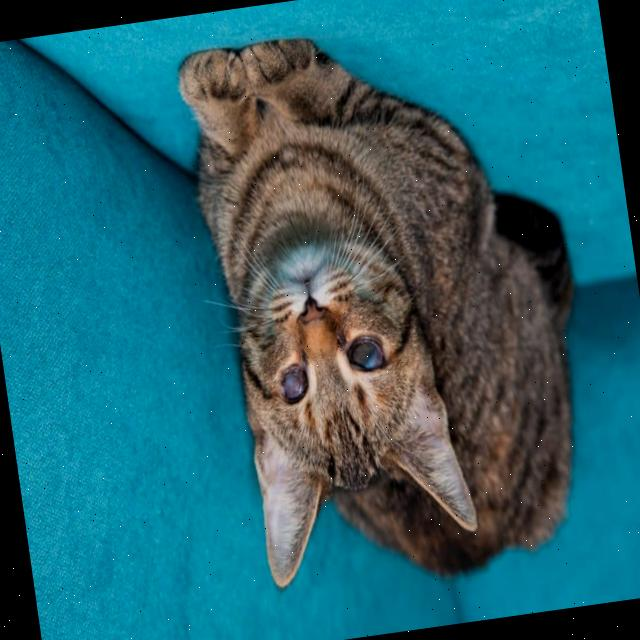cat-eye: (340, 330, 392, 384), (274, 354, 315, 412)
